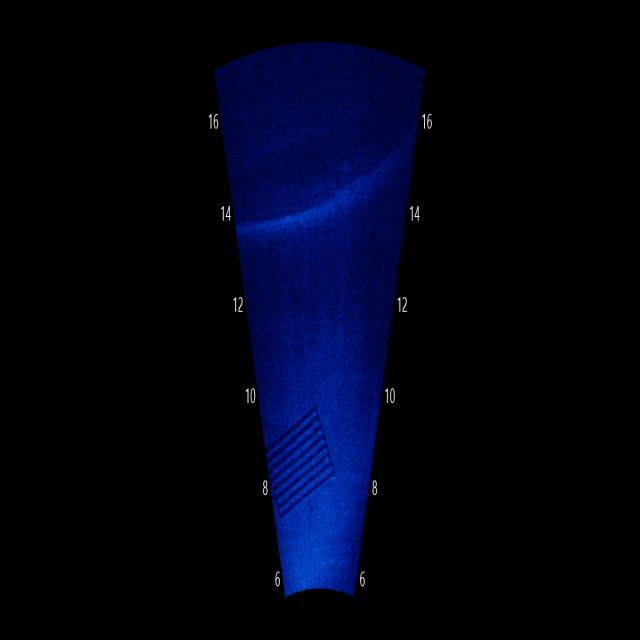square: (258, 393, 343, 521)
